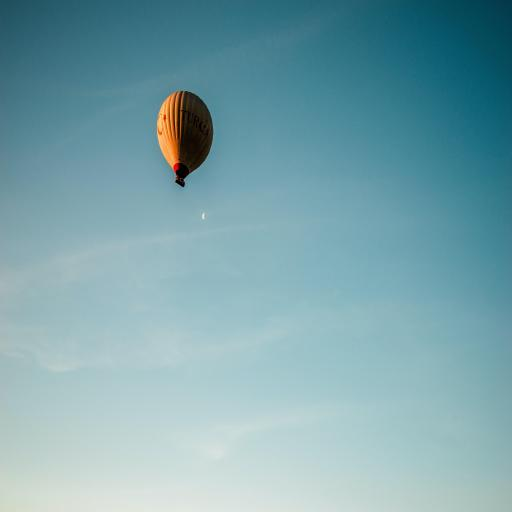hot air ballon: (157, 91, 214, 187)
